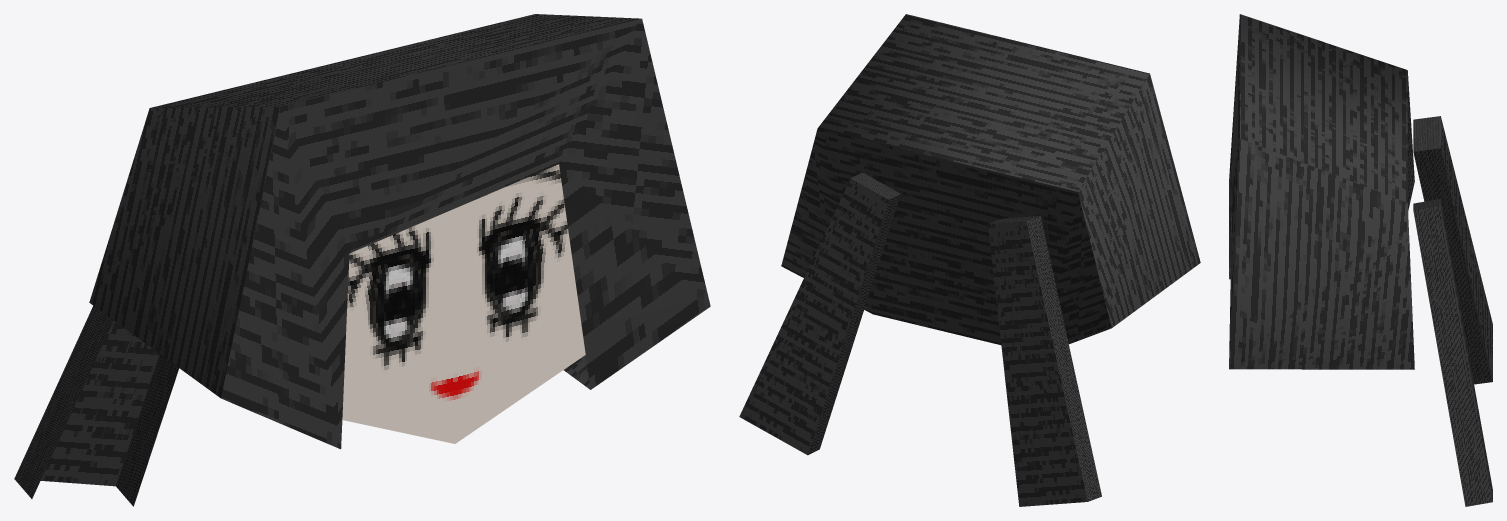
Rendered from C_GH_Head_F9.FBX.
The picture shows the model from 3 angles, left to right: view 1: azimuth 30°, elevation 25°; view 2: azimuth 150°, elevation 25°; view 3: azimuth 270°, elevation 25°; orthographic projection. The views are drawn at different scales.
Visible parts, largest first — view 1: Hair, Face; view 2: Hair; view 3: Hair.
Part boxes in pixels (bbox=[...]): Hair: bbox=[14, 14, 710, 506]; Face: bbox=[342, 164, 585, 443]; Hair: bbox=[739, 14, 1200, 506]; Hair: bbox=[1229, 14, 1492, 506].
Size of the model in its own units: 35.18 by 33.65 by 21.92.
2 materials, 2 textured.
